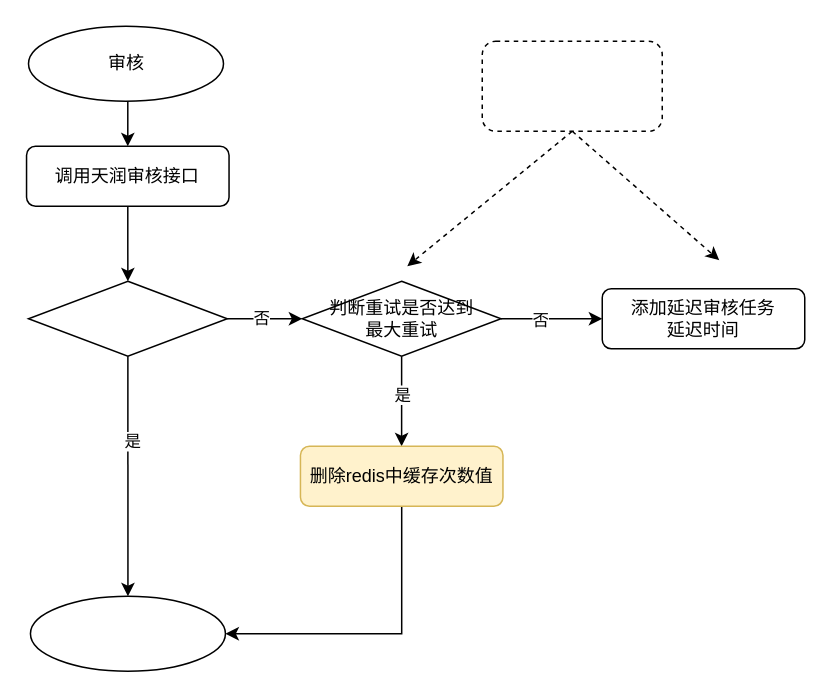
Image size: 831x698. Some labels were removed from this diagram. The centre of each missing label's shape, as x and y in pixels:
"config服务： 最大重试次数 延迟时间" goes at pixel 571 85.
"审核接口是否 返回成功" goes at pixel 127 318.
"审核结束" goes at pixel 127 633.
